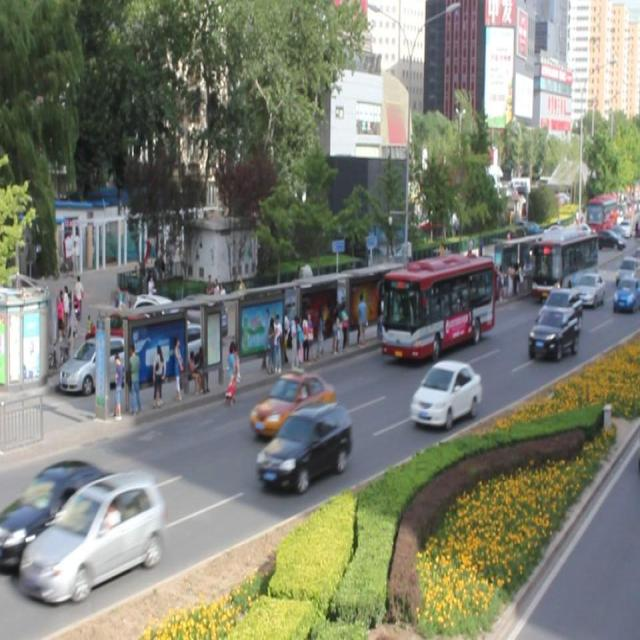car: (22, 474, 163, 594), (1, 456, 130, 564), (255, 401, 348, 487), (249, 368, 334, 434), (409, 358, 480, 428), (528, 304, 576, 355), (535, 285, 580, 327), (570, 271, 603, 305), (612, 272, 640, 311)
van: (383, 255, 493, 353), (531, 230, 597, 296)
